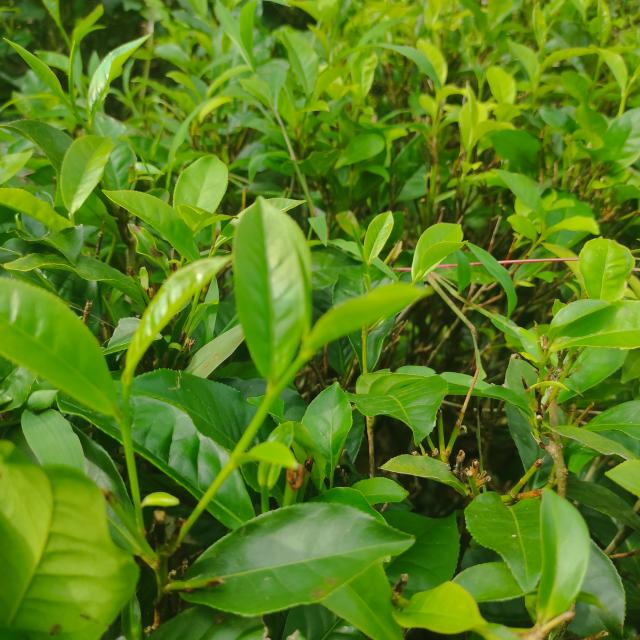unopened_leaf: (279, 221, 320, 349), (348, 219, 368, 269)
